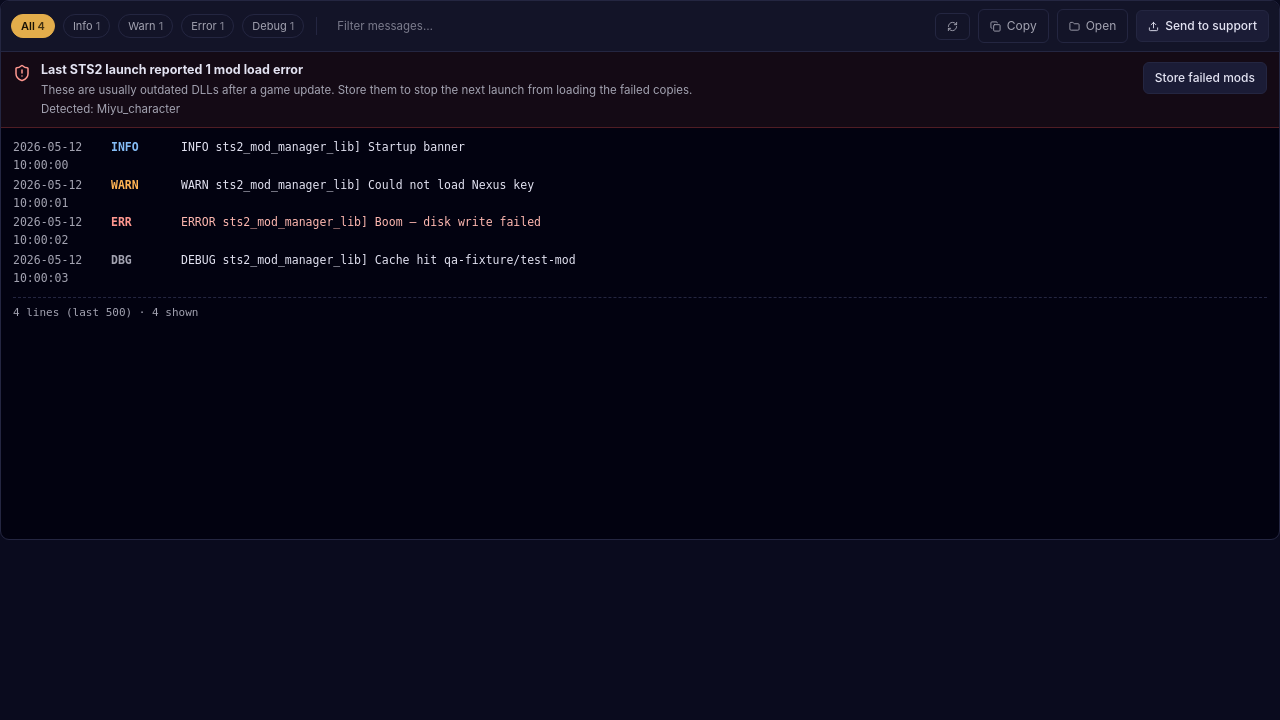
Test: <LogsViewer> › shows game-launch failures from the STS2 log and stores them on request
Check: the text "Last STS2 launch reported 1 mod load error" is shown, box [41,62,303,77]
Check: the text "Detected: Miyu_character" is shown, box [41,102,180,116]
Click the button "Store failed mods".
click(1205, 78)  # box [1143,62,1267,94]
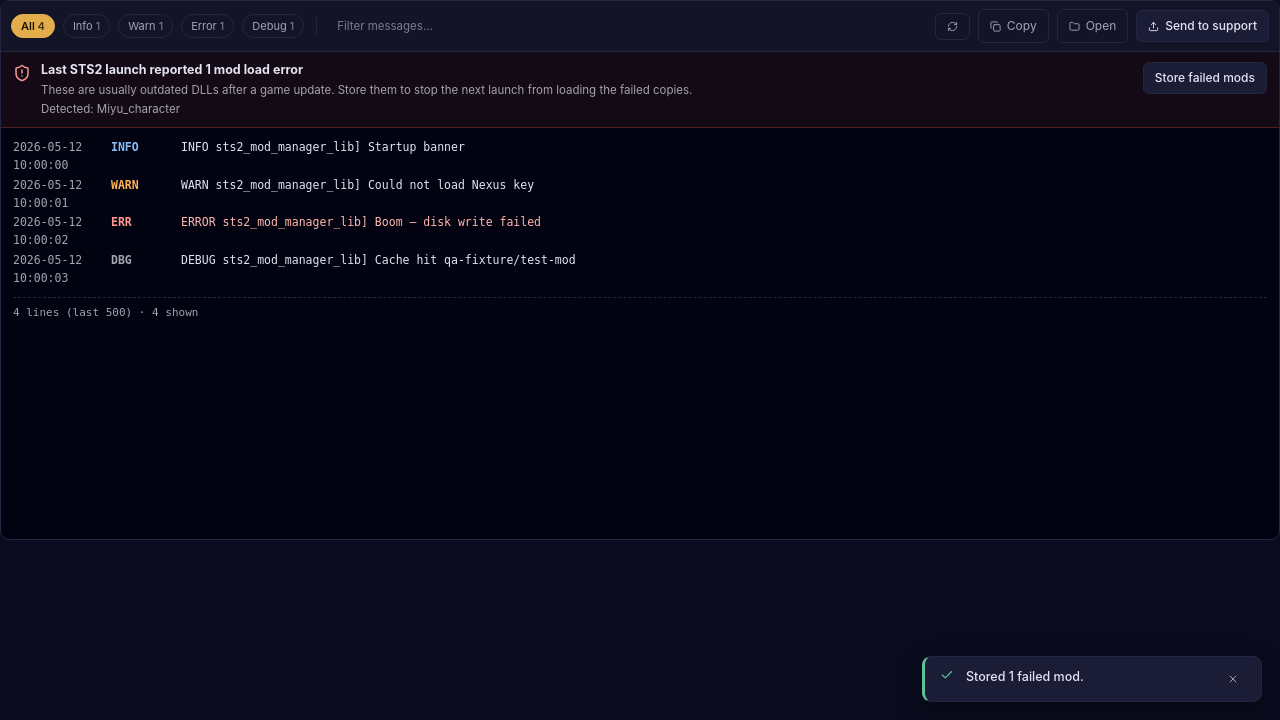
Check: the text "Stored 1 failed mod." is shown, box [966,669,1084,684]
